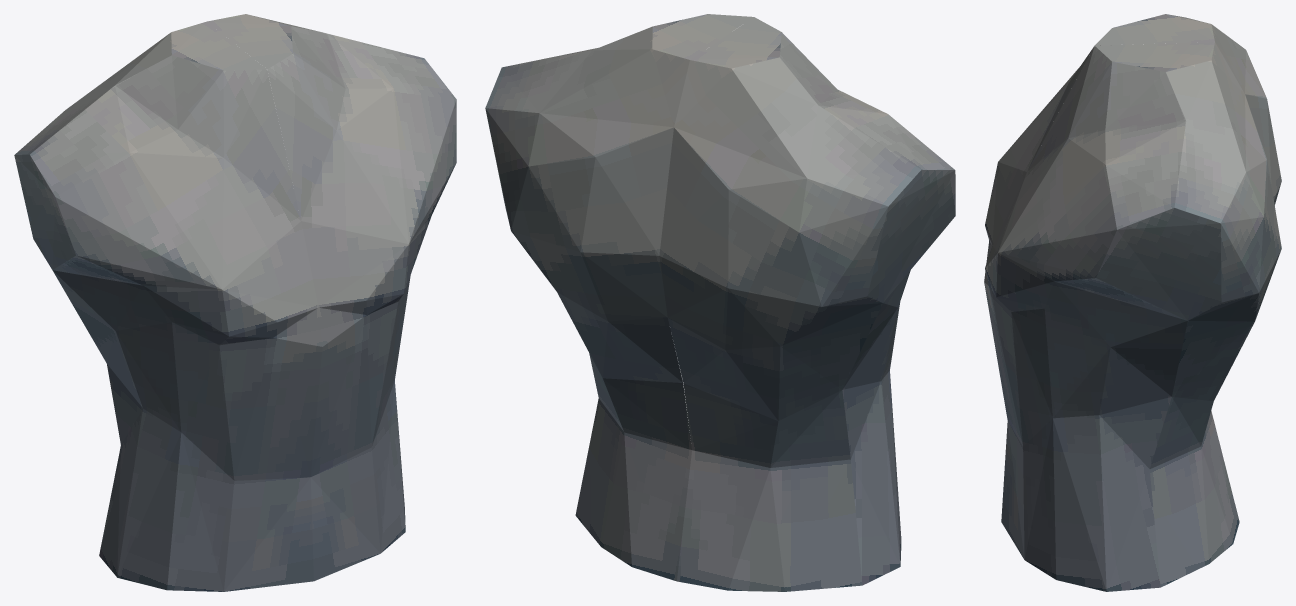
Rendered from item_mannequin_torso.glb.
3 views of the same model, side by side, from view 1: azimuth 30°, elevation 25°; view 2: azimuth 150°, elevation 25°; view 3: azimuth 270°, elevation 25° (orthographic). The views are drawn at different scales.
Visible parts, largest first — view 1: torso_LP; view 2: torso_LP; view 3: torso_LP.
Part boxes in pixels (x1,y1,x2,y2): torso_LP: [14, 14, 456, 591]; torso_LP: [485, 14, 955, 591]; torso_LP: [984, 14, 1281, 591].
Size of the model in its own units: 0.4905 by 0.5624 by 0.3162.
1 material, 1 textured.
